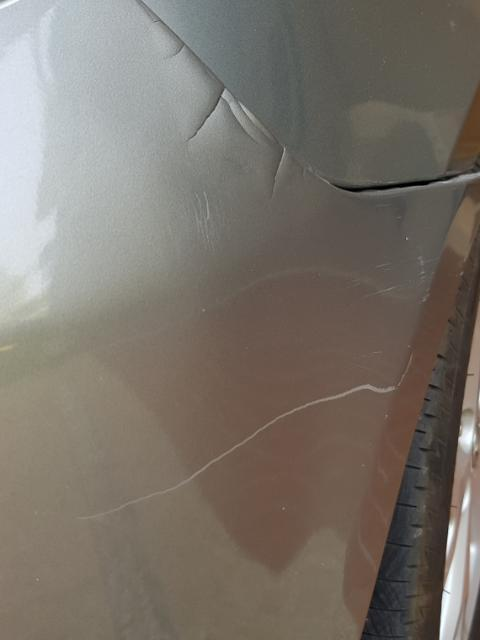Bumper: (24, 30, 410, 603)
